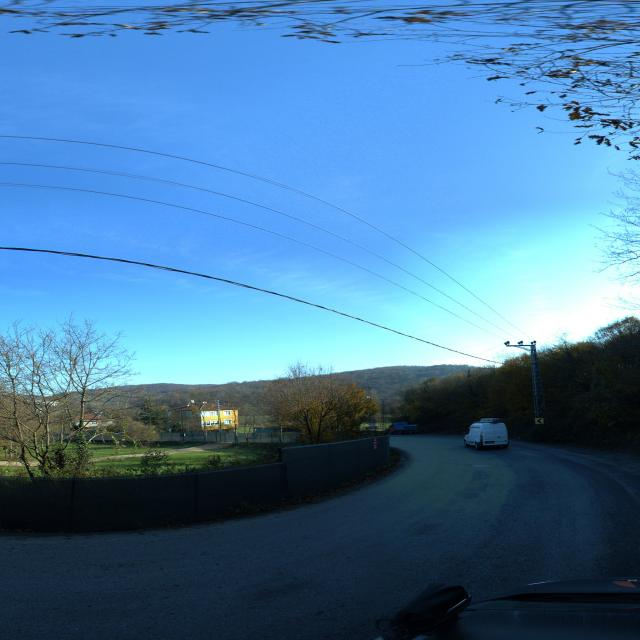Utility Pole Information Plate: (534, 411, 536, 413)
